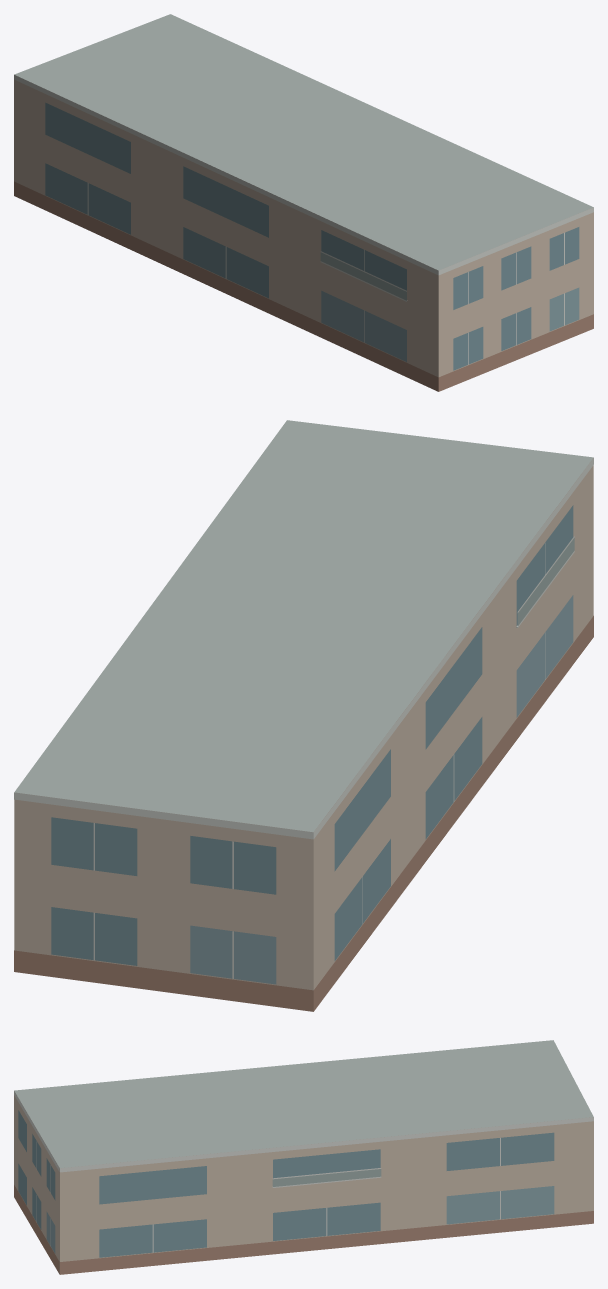
File: survey-upis-32952242.glb
3 renders of one model, top to bottom at view 1: azimuth 30°, elevation 25°; view 2: azimuth 150°, elevation 25°; view 3: azimuth 270°, elevation 25°, orthographic. The views are drawn at different scales.
Parts seen in each view (by area): view 1: survey-upis-32952242.tmp; view 2: survey-upis-32952242.tmp; view 3: survey-upis-32952242.tmp.
Boxes of the visible parts, left/top/right/bottom form: survey-upis-32952242.tmp: left=14, top=14, right=593, bottom=391; survey-upis-32952242.tmp: left=14, top=420, right=593, bottom=1011; survey-upis-32952242.tmp: left=14, top=1040, right=593, bottom=1274.
Bounding box in the file's own units: 15.74 × 6.1 × 30.08.
